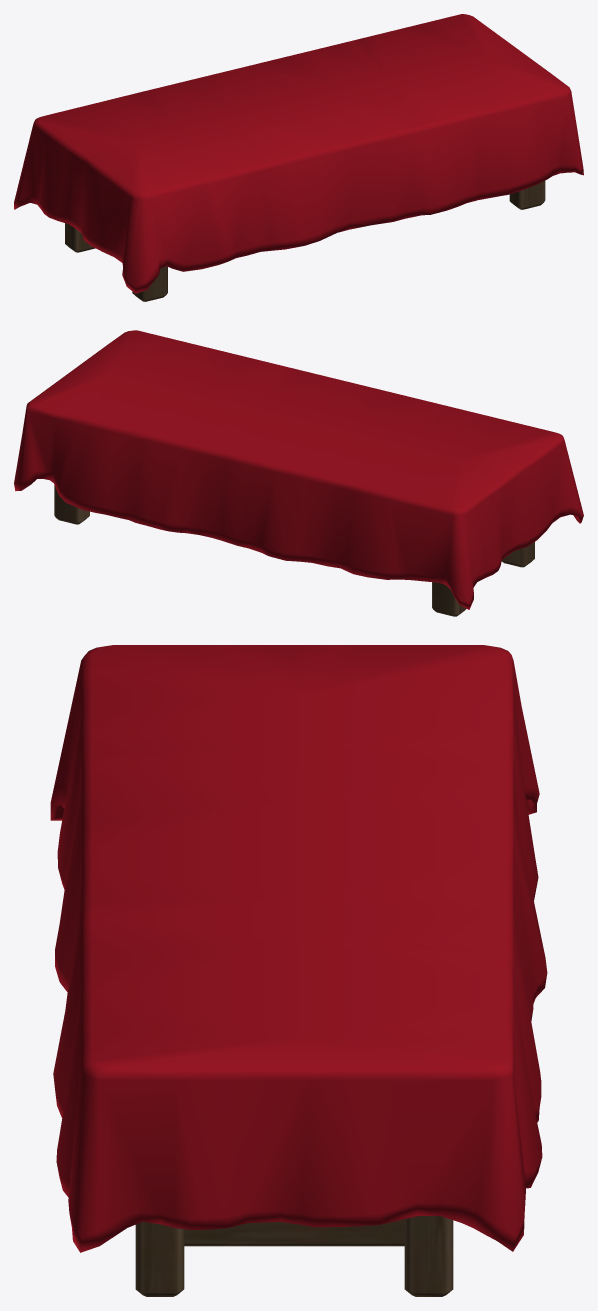
3 views of the same model, one above another, from view 1: azimuth 30°, elevation 25°; view 2: azimuth 150°, elevation 25°; view 3: azimuth 270°, elevation 25° (orthographic). The views are drawn at different scales.
Size of the model in its own units: 17.66 by 4.47 by 8.21.
Materials: 2 (2 with a texture image).
